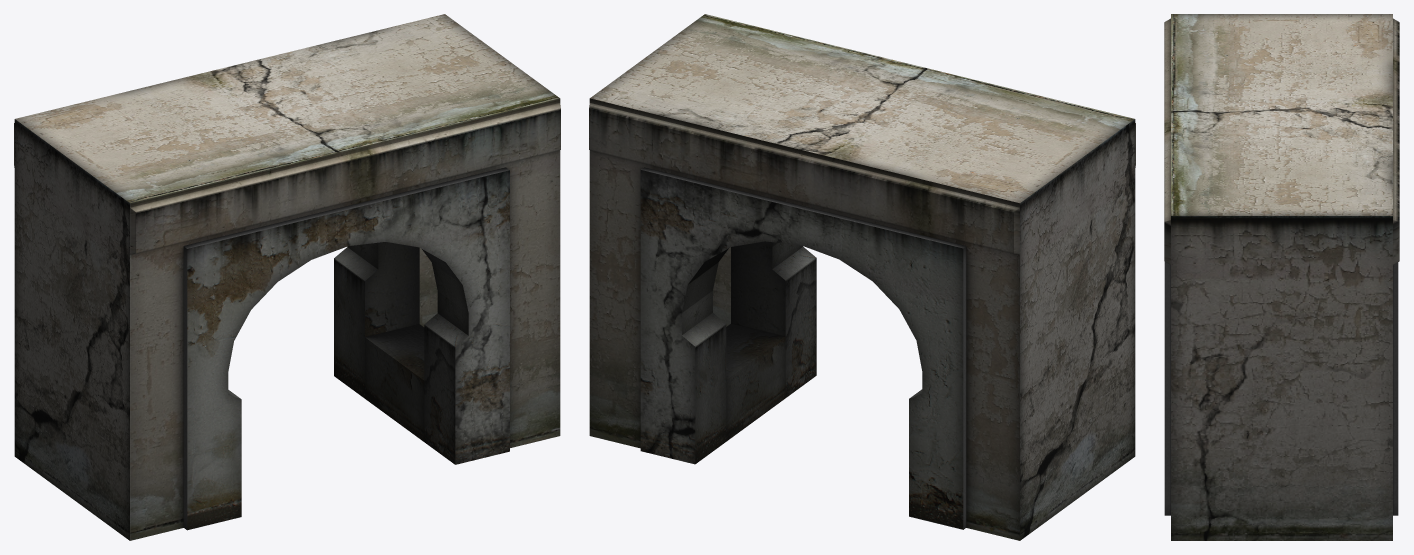
The model's file is FBX Bridge.FBX.
3 views of the same model, side by side, from view 1: azimuth 30°, elevation 25°; view 2: azimuth 150°, elevation 25°; view 3: azimuth 270°, elevation 25° (orthographic). The views are drawn at different scales.
Visible parts, largest first — view 1: Bridge; view 2: Bridge; view 3: Bridge.
Boxes of the visible parts, x1,y1,x2,y2 form: Bridge: (14,14,560,540); Bridge: (589,14,1135,540); Bridge: (1164,14,1399,540).
Bounding box in the file's own units: 54.67 × 41 × 26.89.
